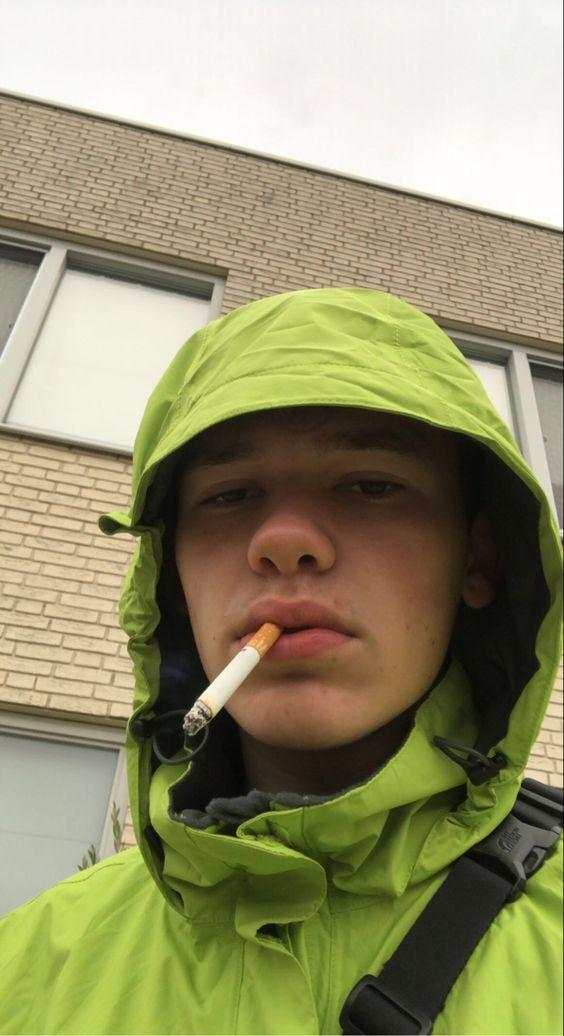cigarette: (183, 621, 287, 737)
